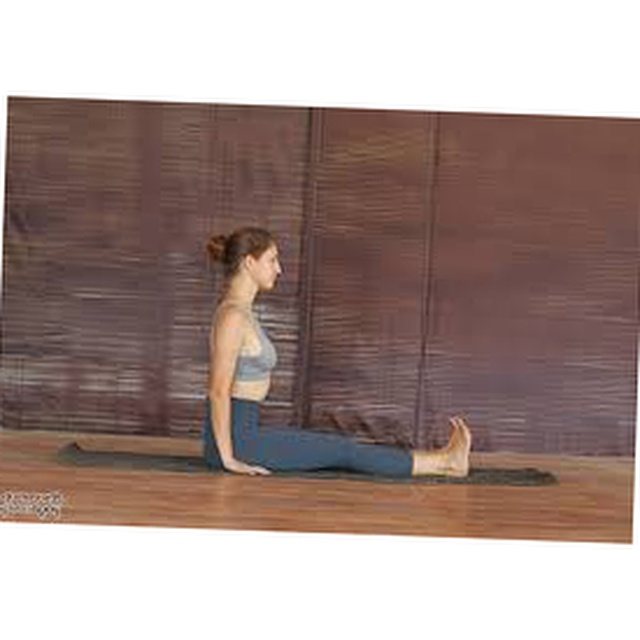Staff_Pose: (204, 226, 473, 480)
